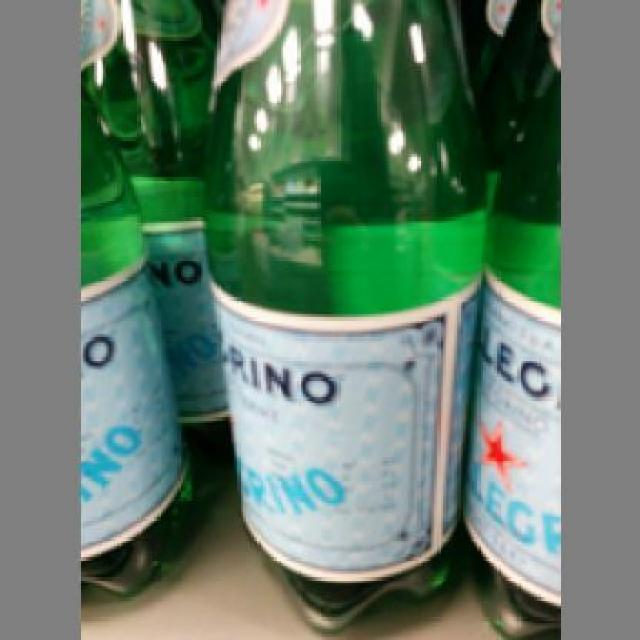Water: (204, 0, 492, 632)
